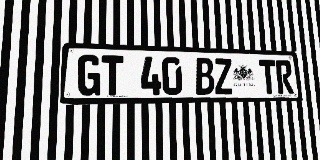0: (162, 57, 182, 95)
4: (141, 56, 162, 95)
B: (195, 58, 215, 95)
G: (77, 54, 101, 96)
R: (275, 60, 294, 94)
T: (101, 55, 124, 96), (259, 60, 278, 94)
Z: (214, 58, 233, 94)
